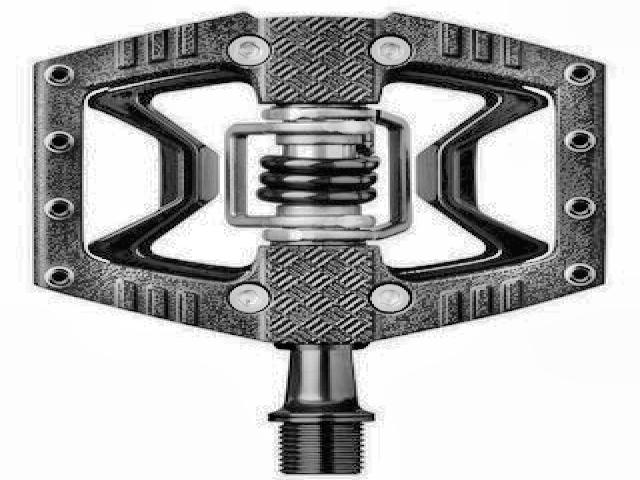pedal: (29, 12, 612, 480)
